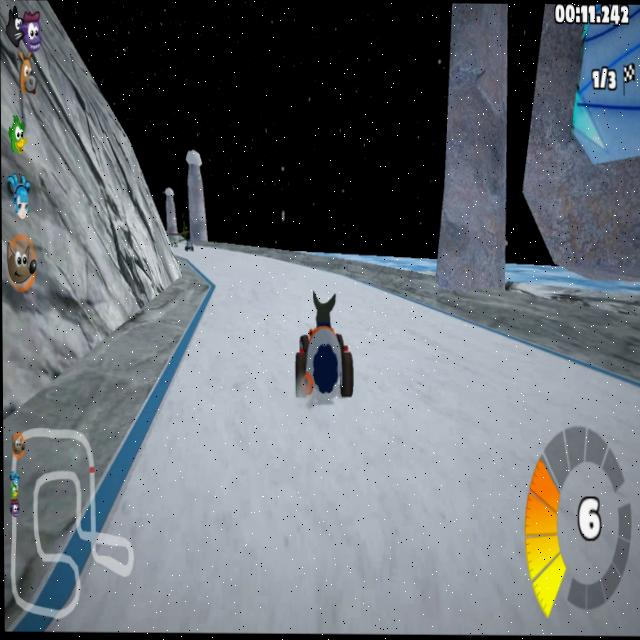enemy_kart: (184, 236, 194, 254)
player_kart: (287, 293, 357, 397)
track: (161, 396, 640, 632), (356, 360, 632, 402), (109, 503, 164, 631), (201, 266, 288, 337), (360, 313, 487, 361), (182, 339, 288, 396), (190, 252, 314, 276), (356, 279, 418, 311), (289, 264, 357, 292), (171, 241, 185, 257)
